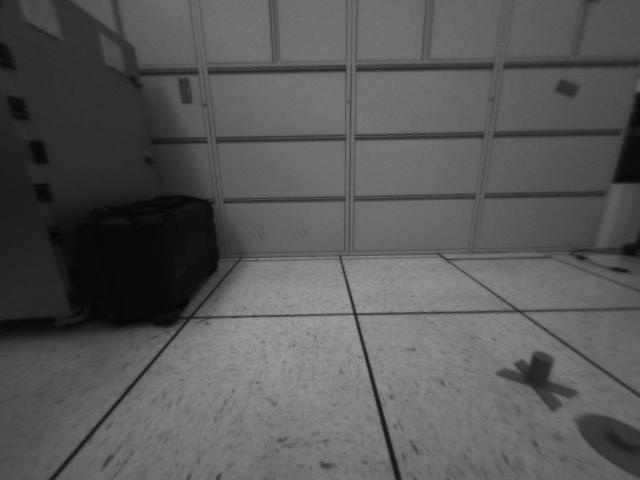X: (495, 349, 580, 411)
